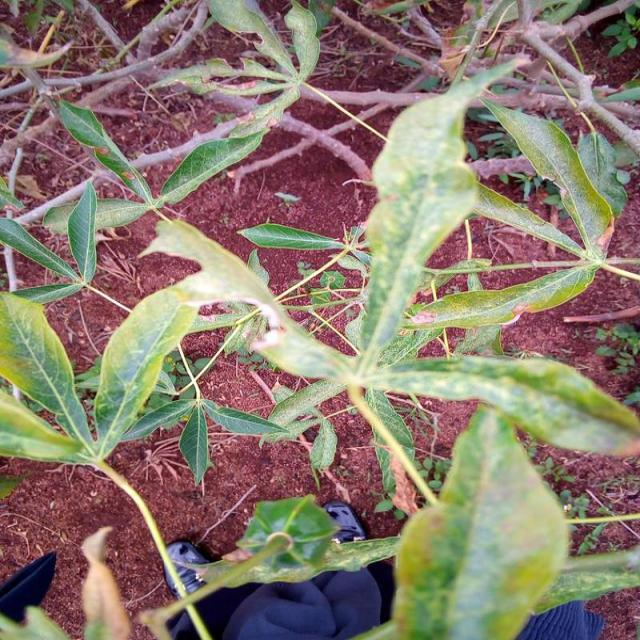cassava leaf: (392, 403, 570, 638), (480, 96, 613, 254), (0, 288, 94, 454)
